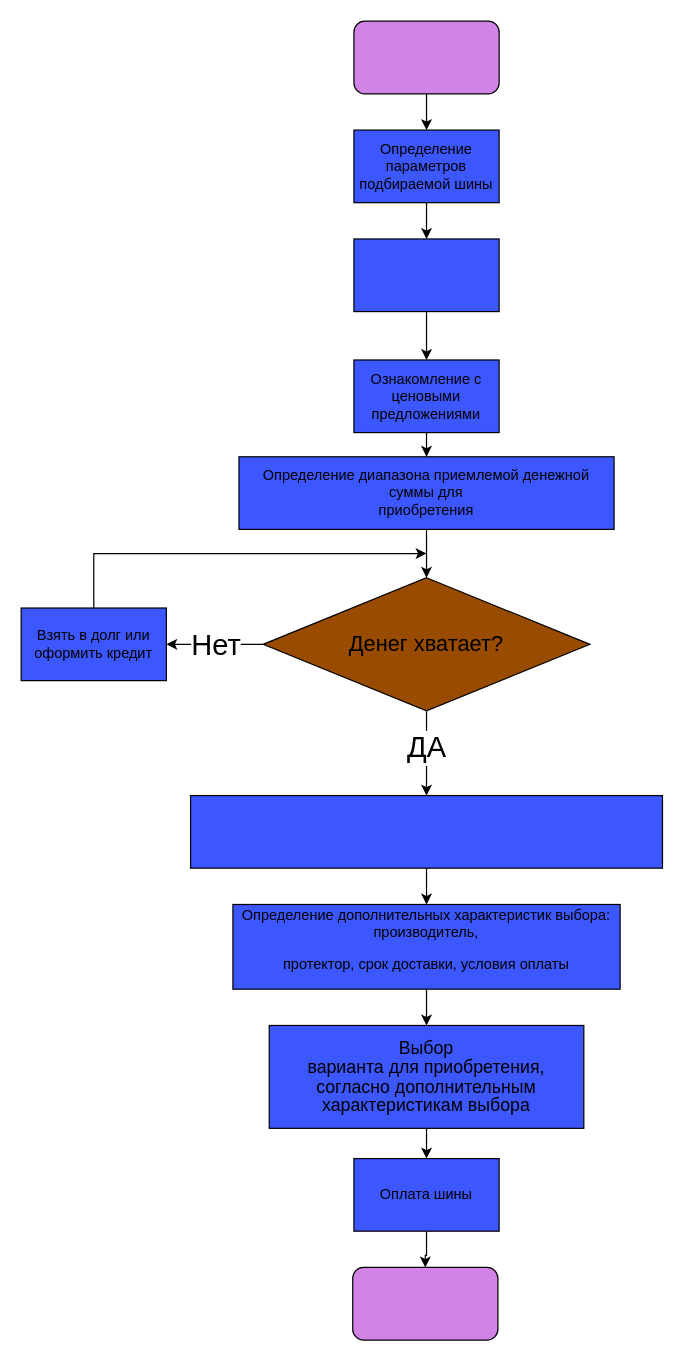
This 684x1361 diagram has some shape labels left out. The shapes that lost their labels are listed below. From the top down, each one's centre as x and y in pixels, then its label:
At (x=426, y=57): "Начало".
At (x=426, y=275): "Поиск предложений в яндекс-маркете, согласно параметрам.".
At (x=425, y=831): "Выборка предложений, входящих в диапазон приемлемой суммы для приобретения".
At (x=425, y=1303): "Конец".
